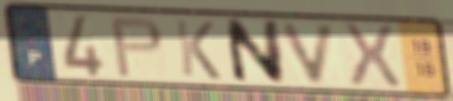4: (59, 12, 107, 79)
K: (172, 18, 224, 82)
N: (221, 17, 288, 86)
P: (108, 15, 166, 79)
V: (277, 21, 341, 88)
X: (339, 20, 405, 89)
